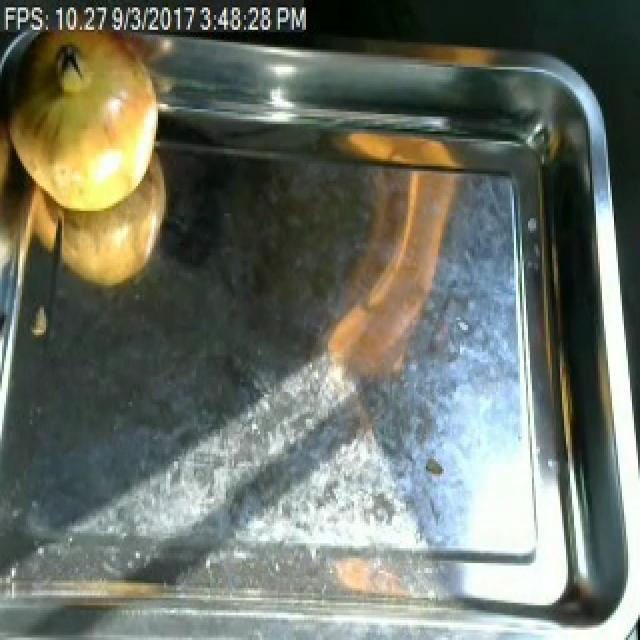fruit: (0, 0, 172, 226)
